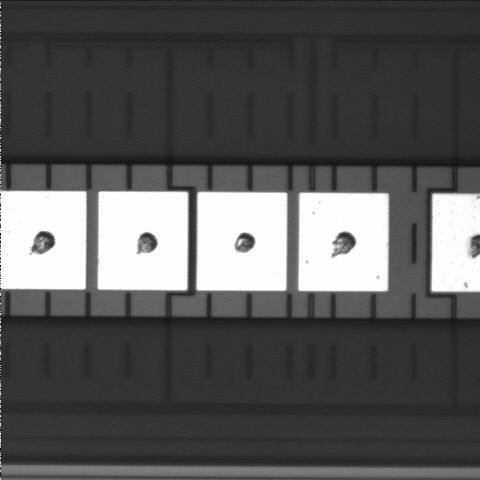pad: (197, 192, 287, 291), (98, 192, 188, 290), (299, 193, 388, 291)
